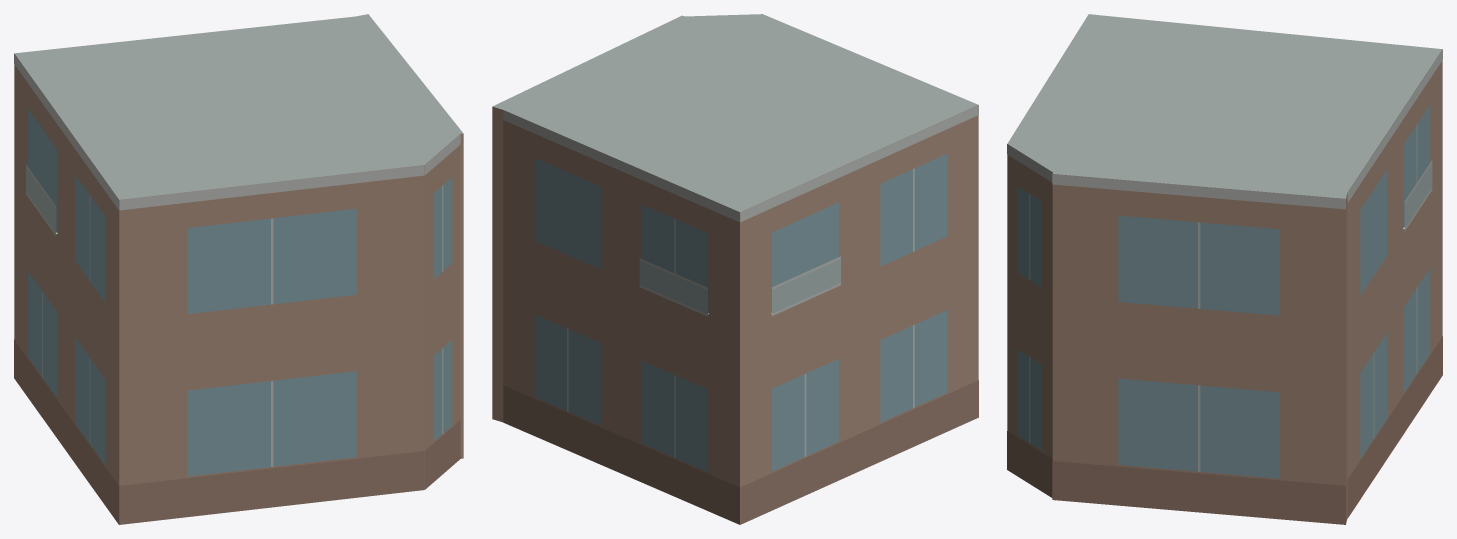
Rendered from survey-upis-32963640.glb.
3 renders of one model, left to right at view 1: azimuth 30°, elevation 25°; view 2: azimuth 150°, elevation 25°; view 3: azimuth 270°, elevation 25°, orthographic. The views are drawn at different scales.
Parts seen in each view (by area): view 1: survey-upis-32963640.tmp; view 2: survey-upis-32963640.tmp; view 3: survey-upis-32963640.tmp.
Boxes of the visible parts, x1,y1,x2,y2 form: survey-upis-32963640.tmp: (14, 14, 463, 524); survey-upis-32963640.tmp: (492, 14, 978, 524); survey-upis-32963640.tmp: (1007, 14, 1442, 524).
Size of the model in its own units: 9.13 by 7.5 by 9.09.
